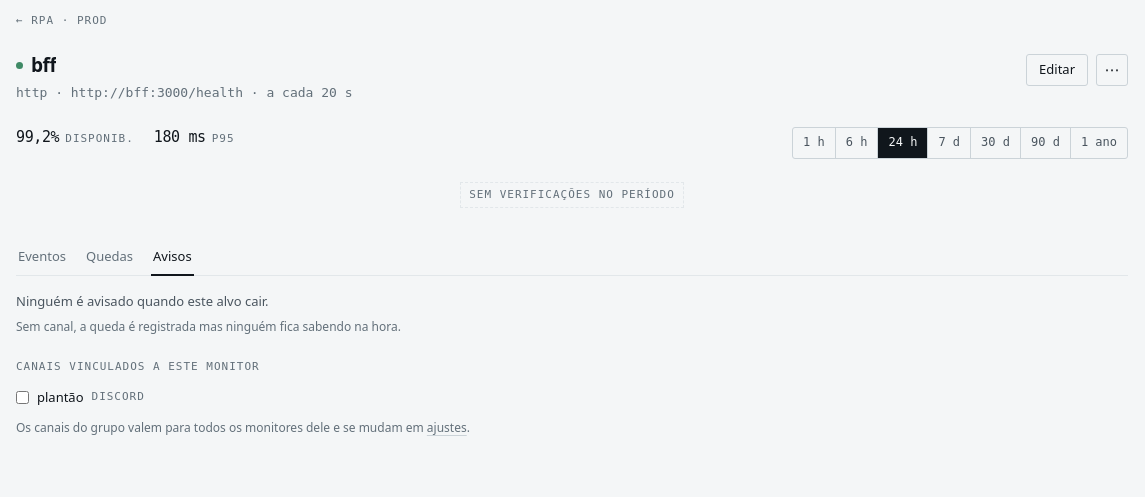
Test: MonitorDetail: avisos e escopo › mostra a recusa do servidor ao vincular, em vez de desfazer a caixa calado
Click the checkbox labelled "plantão Discord" at {"x": 22, "y": 397}, box [16, 391, 29, 404]
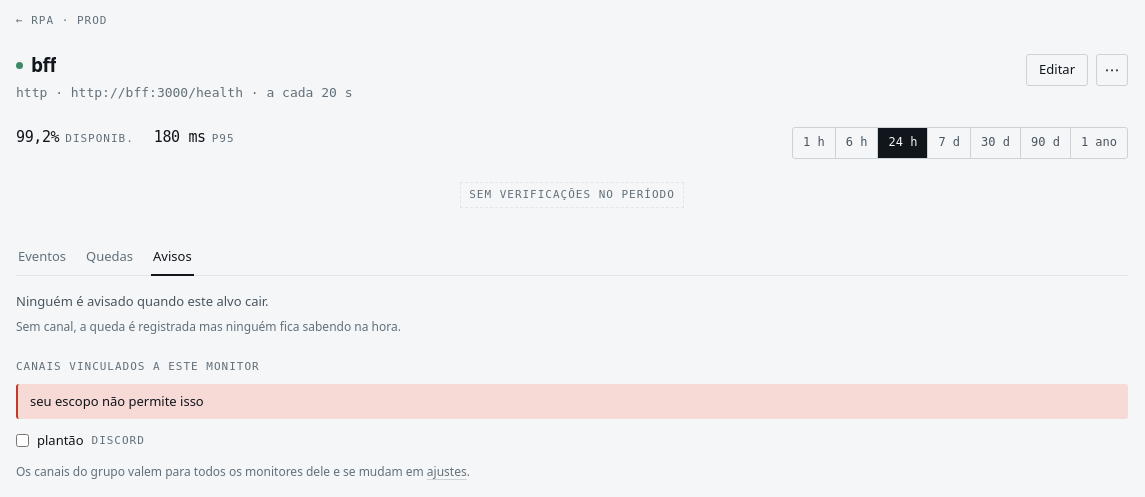
Expected: the checkbox labelled "plantão Discord" is not checked, [16, 434, 29, 447]
Result: the message reads "seu escopo não permite isso" at [30, 392, 204, 410]
